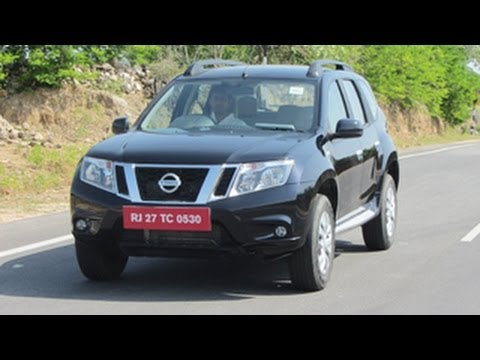number_plate: (122, 206, 213, 233)
